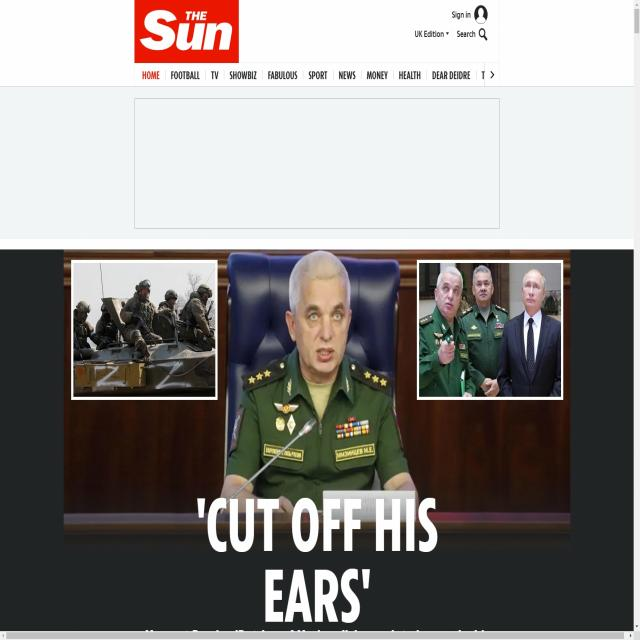menu-bar: (134, 62, 499, 86)
